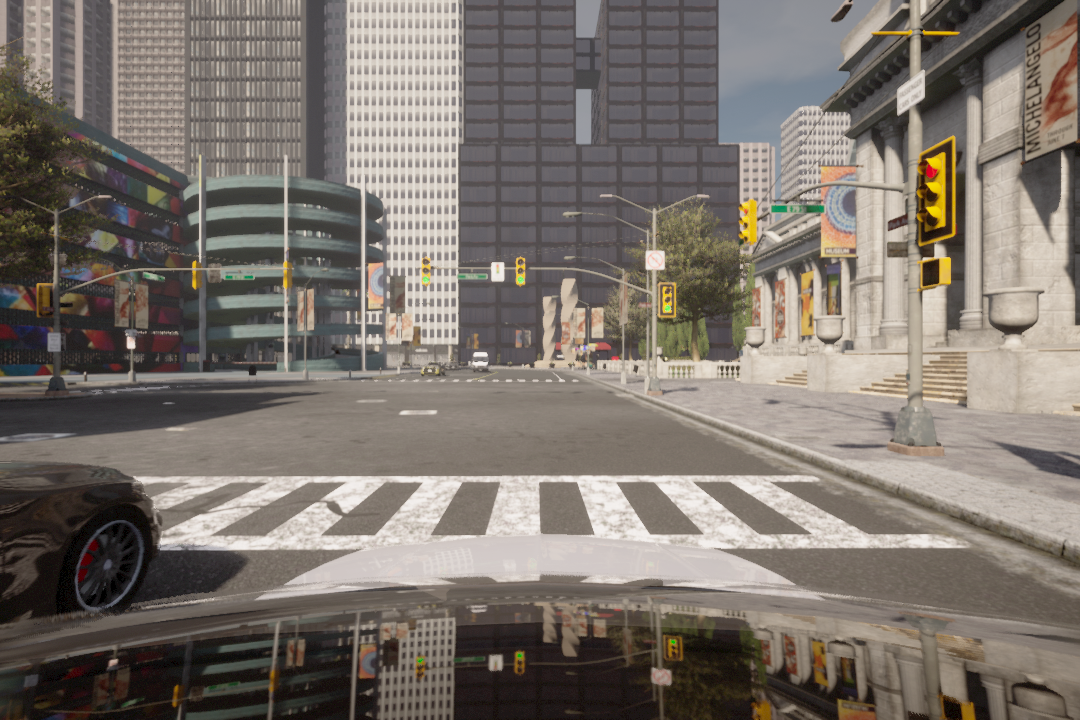TrafficLight: (916, 149, 958, 245), (740, 199, 760, 242), (662, 281, 679, 317), (514, 252, 528, 288), (416, 255, 432, 284)
TrafficSign: (645, 248, 667, 274)
walkside: (89, 466, 969, 564)
